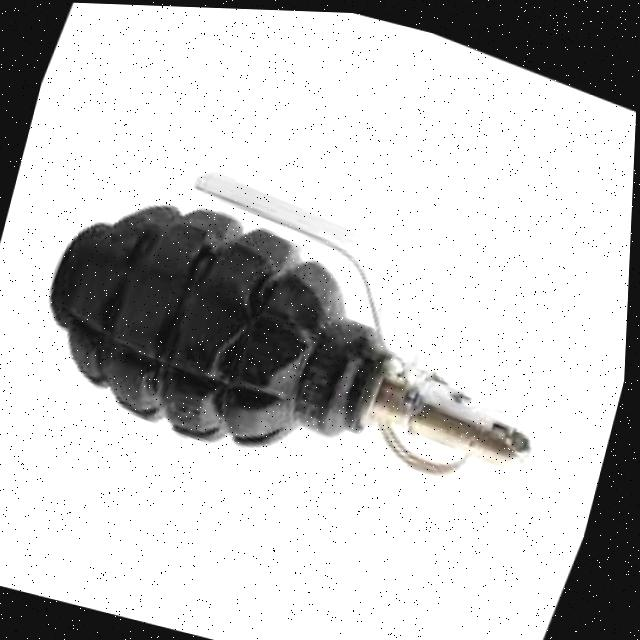grenade: (0, 123, 622, 578)
